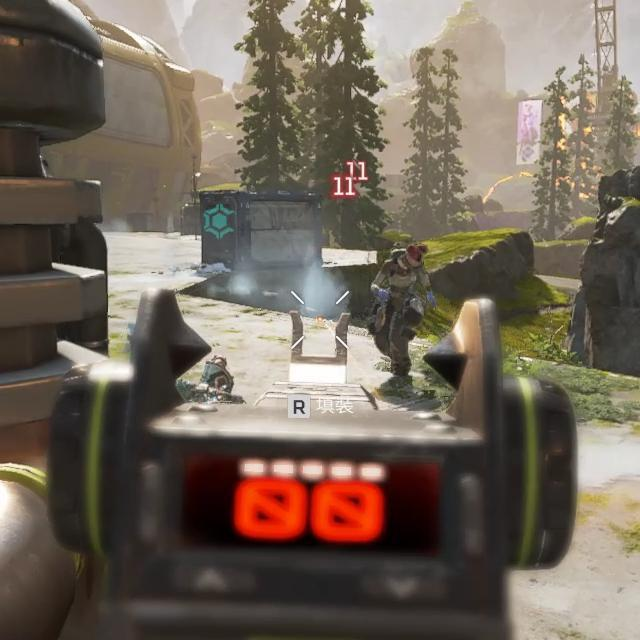avatar: (366, 241, 430, 381)
